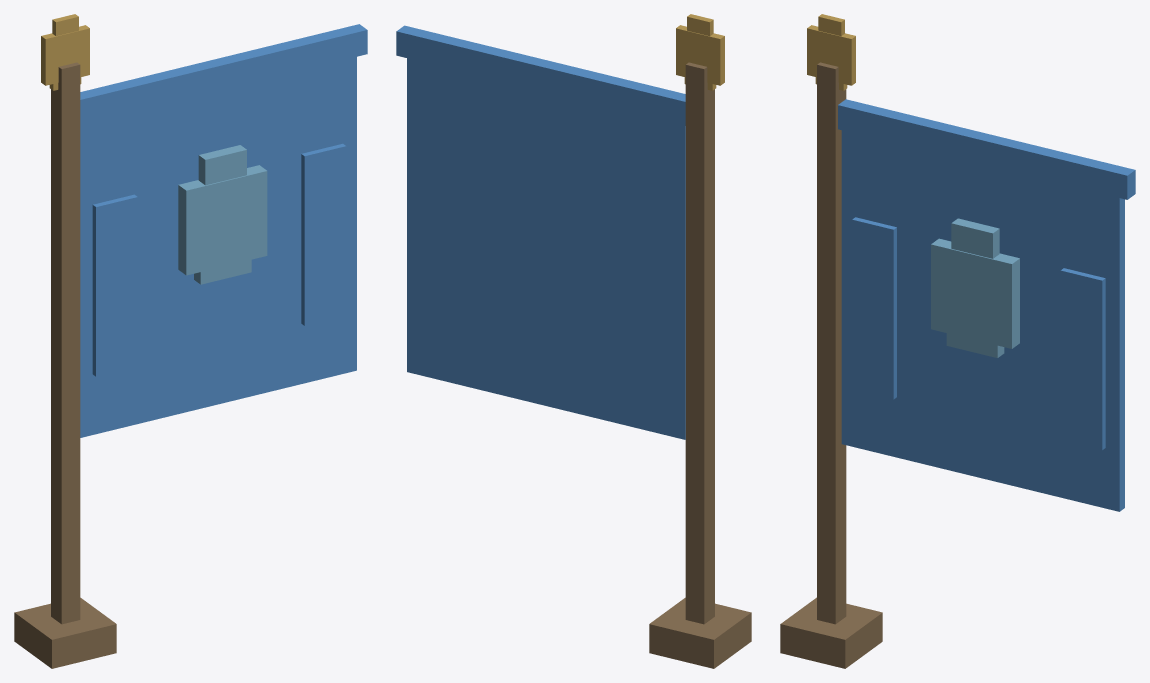
File: cosmetic_banner_sound_streamer.glb
The picture shows the model from 3 angles, left to right: view 1: azimuth 30°, elevation 25°; view 2: azimuth 150°, elevation 25°; view 3: azimuth 330°, elevation 25°; orthographic projection.
Visible parts, largest first — view 1: CosmeticArt_cloth, CosmeticArt_pole, CosmeticArt_crest, CosmeticArt_finial; view 2: CosmeticArt_cloth, CosmeticArt_pole, CosmeticArt_finial; view 3: CosmeticArt_cloth, CosmeticArt_pole, CosmeticArt_crest, CosmeticArt_finial.
Boxes of the visible parts, <box> form: CosmeticArt_cloth: <box>80,24,367,437</box>; CosmeticArt_pole: <box>14,62,116,668</box>; CosmeticArt_crest: <box>178,145,267,284</box>; CosmeticArt_finial: <box>41,14,89,90</box>; CosmeticArt_cloth: <box>396,25,685,439</box>; CosmeticArt_pole: <box>649,62,751,668</box>; CosmeticArt_finial: <box>676,14,724,90</box>; CosmeticArt_cloth: <box>838,99,1135,511</box>; CosmeticArt_pole: <box>780,62,882,668</box>; CosmeticArt_crest: <box>931,218,1019,357</box>; CosmeticArt_finial: <box>807,14,855,90</box>.
Size of the model in its own units: 1.43 by 2.6 by 0.28.
